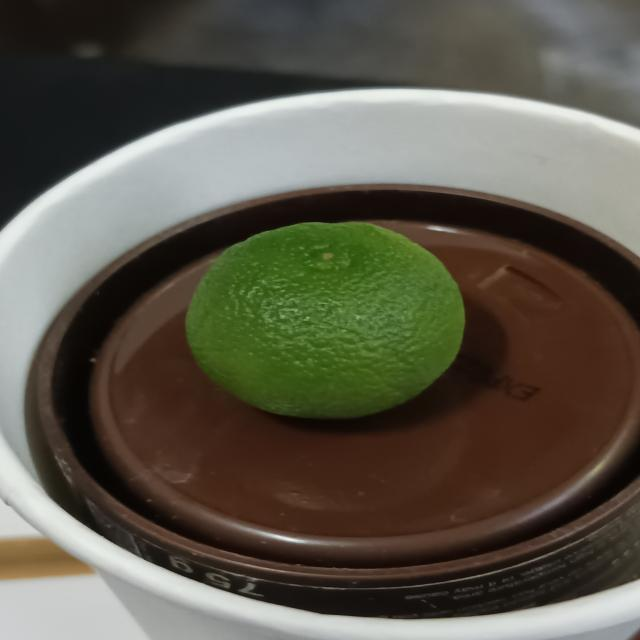heathy: (177, 217, 472, 426)
